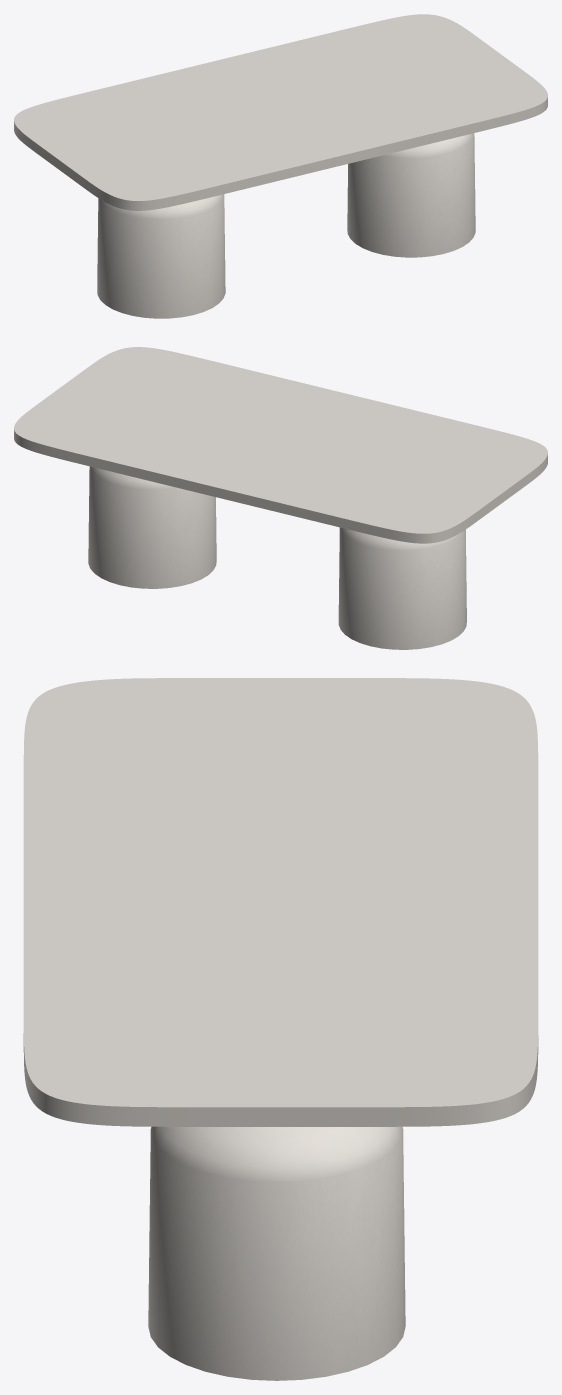
The model's file is pearlwhite_softrecta_standard_tornado.glb.
3 renders of one model, top to bottom at view 1: azimuth 30°, elevation 25°; view 2: azimuth 150°, elevation 25°; view 3: azimuth 270°, elevation 25°, orthographic. The views are drawn at different scales.
Parts seen in each view (by area): view 1: standard_softrecta, tornado; view 2: standard_softrecta, tornado; view 3: standard_softrecta, tornado.
Part boxes in pixels (bbox=[...]): standard_softrecta: bbox=[14, 14, 547, 210]; tornado: bbox=[97, 133, 475, 318]; standard_softrecta: bbox=[14, 347, 547, 543]; tornado: bbox=[88, 466, 466, 649]; standard_softrecta: bbox=[23, 678, 538, 1126]; tornado: bbox=[148, 1126, 405, 1380].
Size of the model in its own units: 7.5 by 2.5 by 3.8.
Materials: 1 (1 with a texture image).
